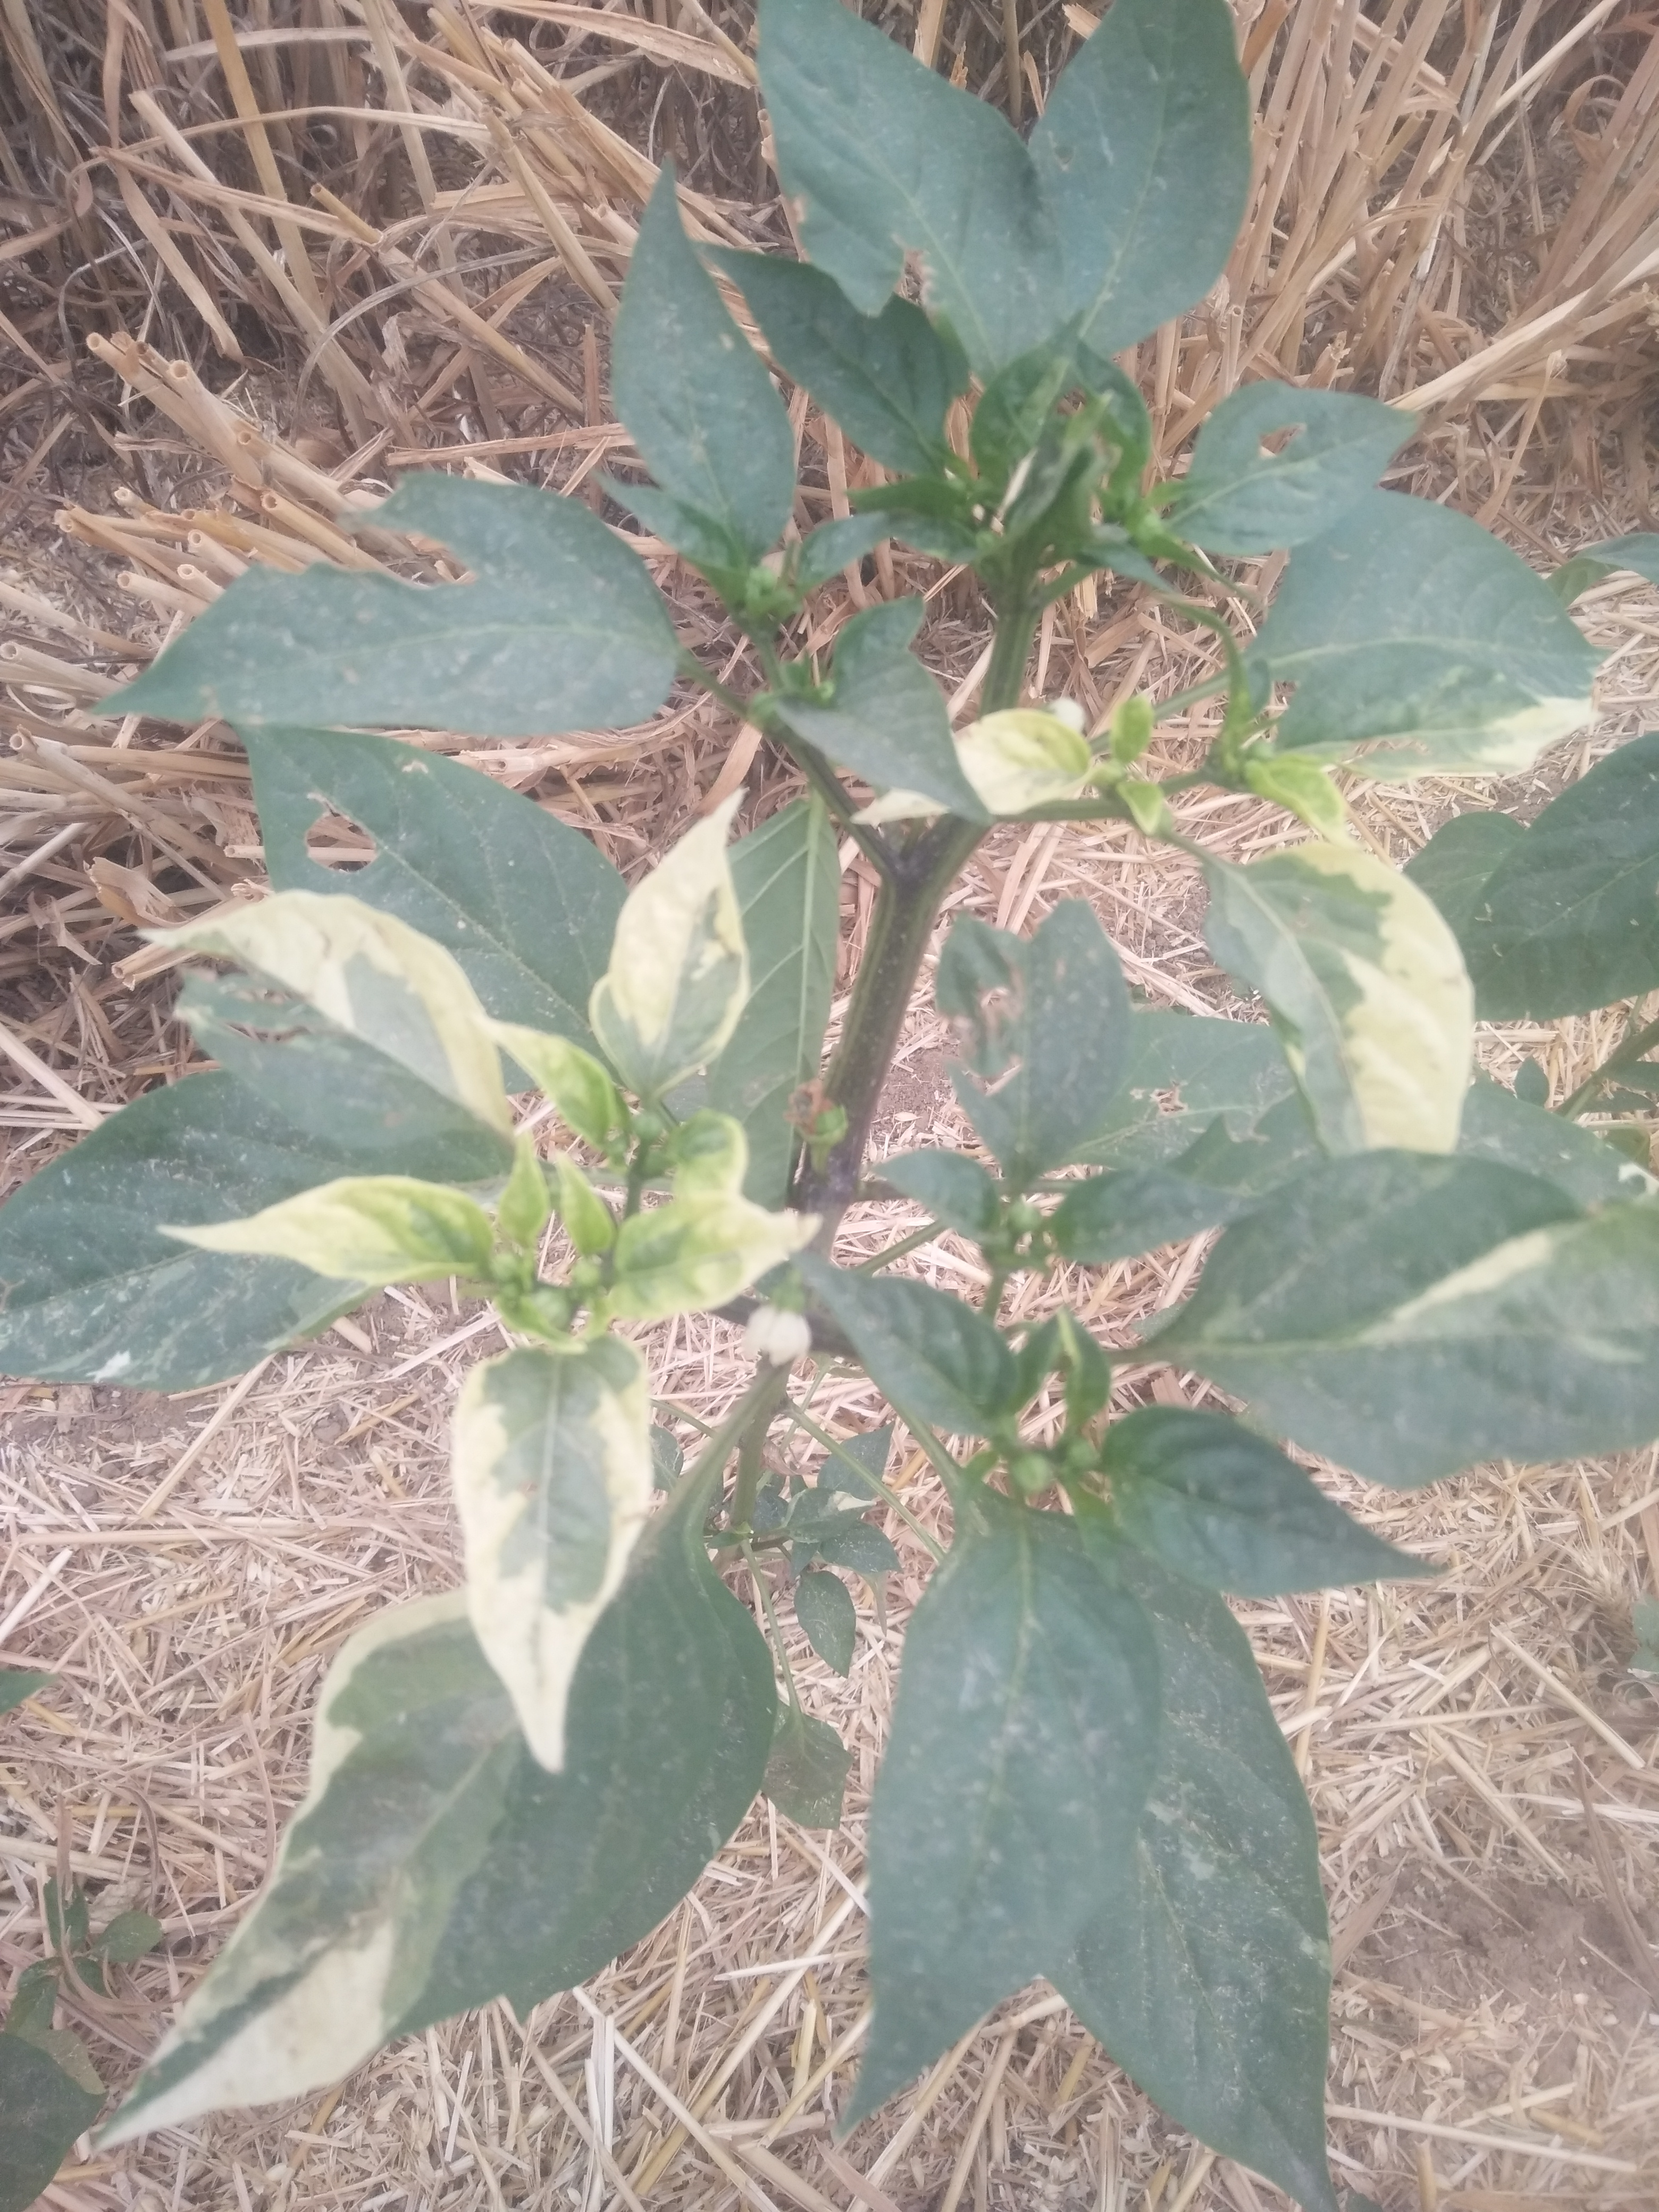iouv: (439, 1336, 666, 1782), (1213, 833, 1478, 1198), (160, 895, 514, 1143), (582, 775, 751, 1099), (159, 1169, 526, 1292), (582, 1193, 828, 1329), (847, 695, 1103, 822)
